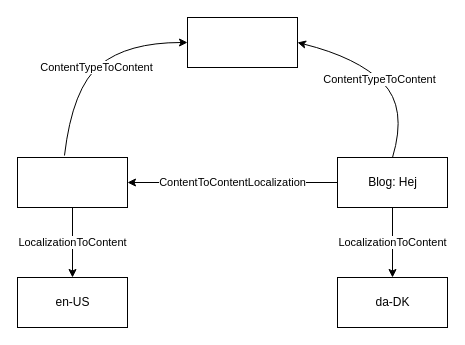
This 465x345 diagram has some shape labels left out. Here are the shapes that lost their labels. From the top down, the centre of each, then its label:
the point at 242,42: Content Type: Blog
the point at 72,182: Blog: Hello
